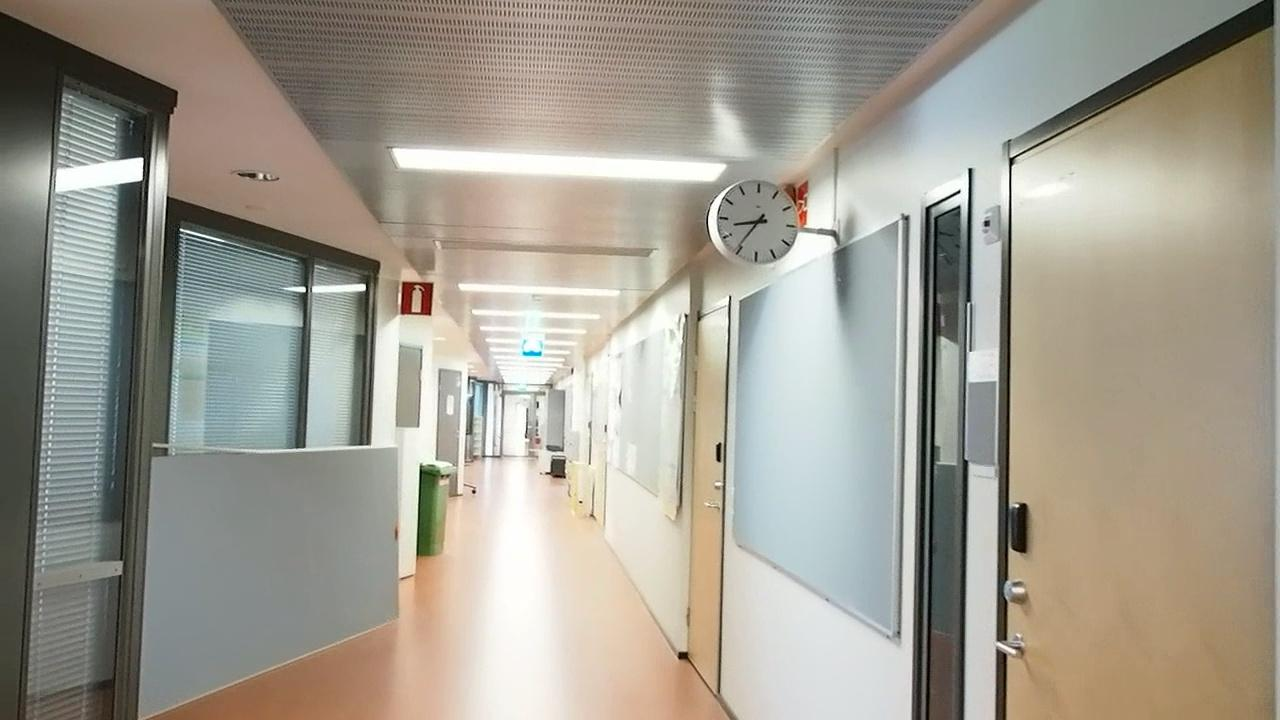clock: (705, 174, 801, 269)
trashbin: (409, 450, 465, 560)
